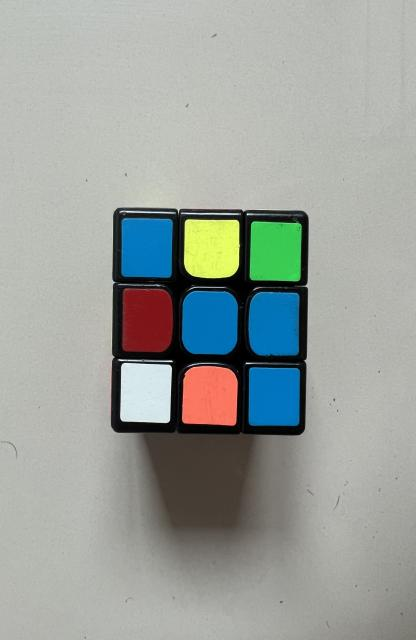Blue: (182, 290, 238, 355), (248, 292, 299, 356), (121, 219, 173, 278), (248, 368, 300, 426)
Green: (249, 221, 302, 281)
Orange: (182, 366, 237, 426)
Red: (122, 289, 173, 352)
White: (120, 362, 172, 424)
Yellow: (184, 219, 239, 279)
